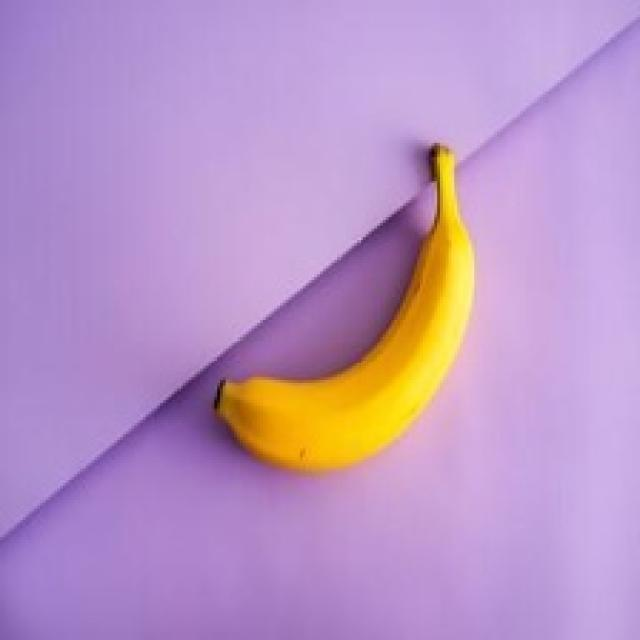Banana: (212, 140, 474, 471)
